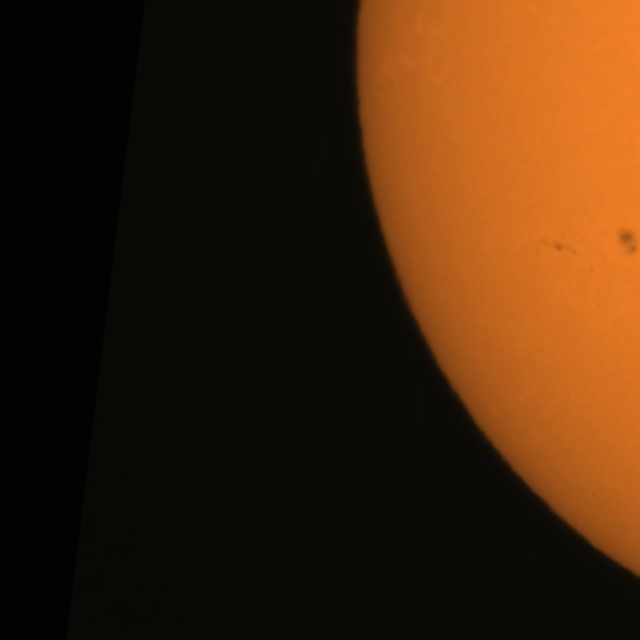sunspot: (536, 236, 580, 257), (615, 225, 640, 258)
